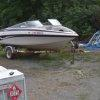Boat: (3, 14, 82, 63)
